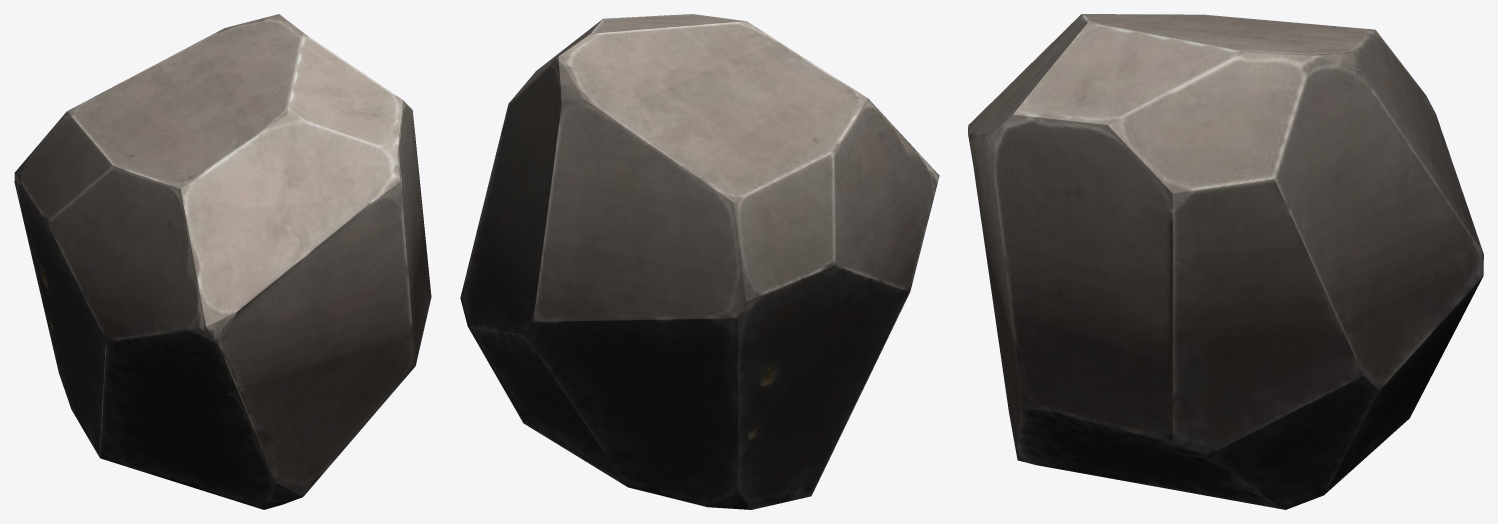
The model's file is rock.glb.
3 views of the same model, side by side, from view 1: azimuth 30°, elevation 25°; view 2: azimuth 150°, elevation 25°; view 3: azimuth 270°, elevation 25° (orthographic). The views are drawn at different scales.
Visible parts, largest first — view 1: S_Rock_02_11; view 2: S_Rock_02_11; view 3: S_Rock_02_11.
Part boxes in pixels (bbox=[...]): S_Rock_02_11: bbox=[14, 14, 431, 509]; S_Rock_02_11: bbox=[460, 14, 939, 509]; S_Rock_02_11: bbox=[968, 14, 1483, 509].
Size of the model in its own units: 111 by 121 by 116.
Materials: 2 (2 with a texture image).
